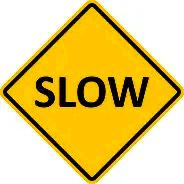Slow: (3, 3, 173, 180)
